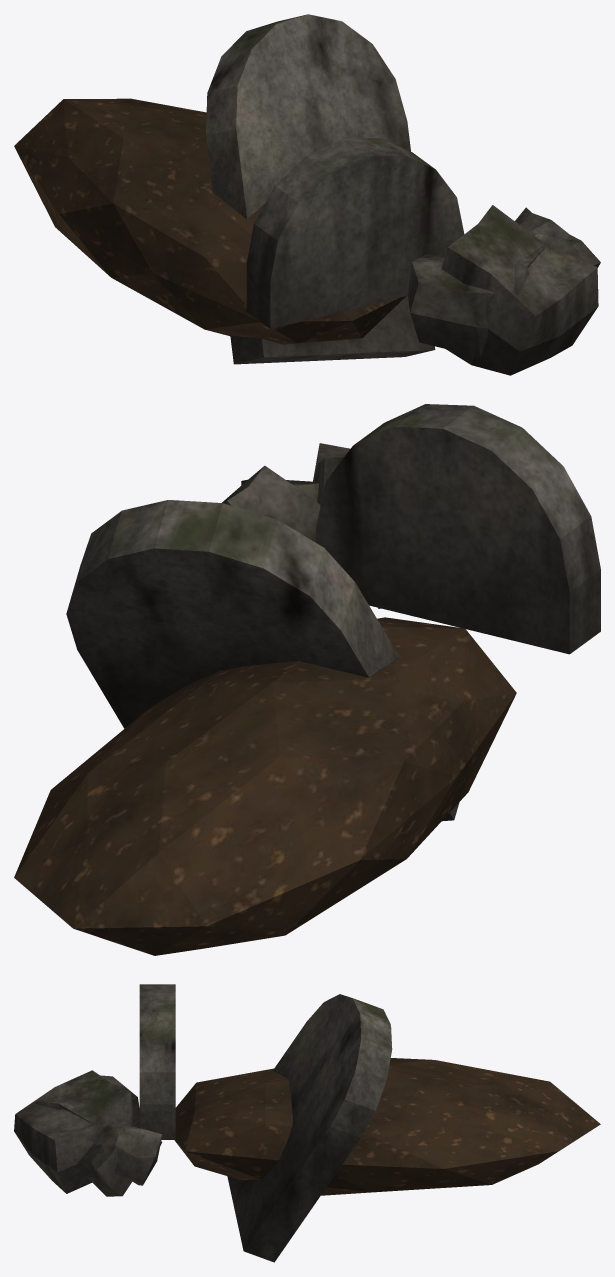
The model's file is gravestone_a.glb.
3 views of the same model, one above another, from view 1: azimuth 30°, elevation 25°; view 2: azimuth 150°, elevation 25°; view 3: azimuth 270°, elevation 25° (orthographic). The views are drawn at different scales.
Parts seen in each view (by area): view 1: gravestone_a; view 2: gravestone_a; view 3: gravestone_a.
Boxes of the visible parts, box(x1,y1,x2,y2) form: gravestone_a: box(14, 14, 600, 375); gravestone_a: box(14, 404, 600, 955); gravestone_a: box(14, 984, 600, 1262).
Bounding box in the file's own units: 1.22 × 1.16 × 2.61.
1 material, 1 textured.
